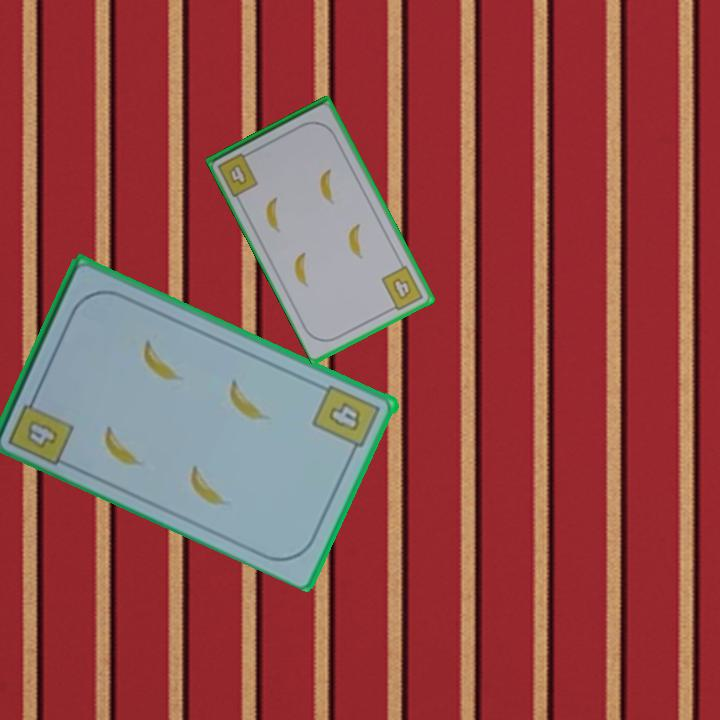4b: (5, 387, 77, 468), (310, 381, 384, 459), (378, 262, 426, 315), (214, 147, 260, 199)
